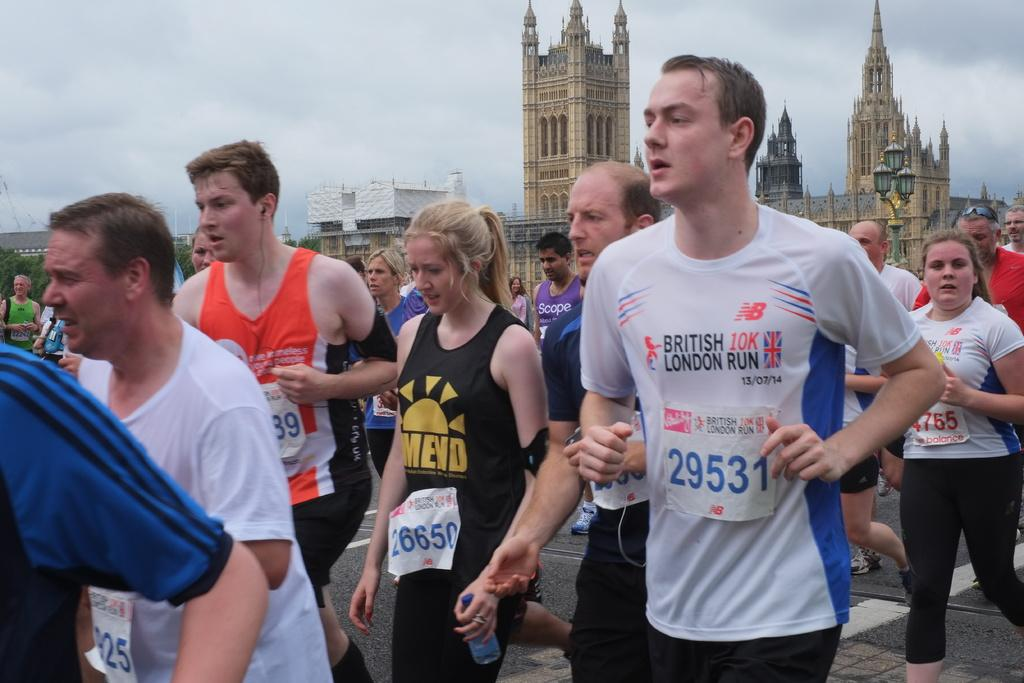Sem Máscara: (639, 68, 729, 197), (40, 225, 127, 353), (563, 164, 634, 283), (193, 167, 259, 259), (403, 231, 466, 312), (921, 238, 971, 303), (957, 216, 994, 258), (364, 251, 393, 297), (846, 223, 878, 258), (535, 246, 565, 280), (191, 231, 213, 272), (1001, 211, 1021, 241), (11, 275, 26, 295), (508, 276, 517, 289)
